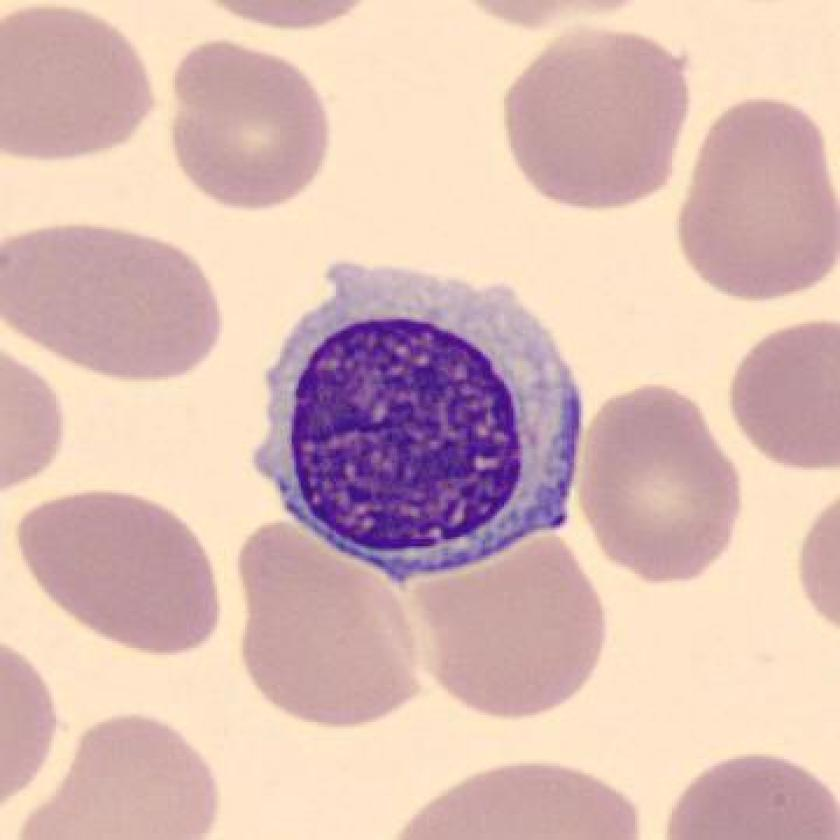lymphocyte: (248, 237, 596, 600)
